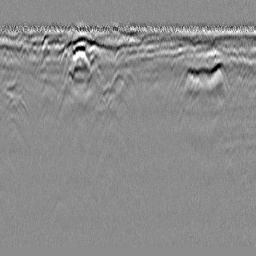cavity: (118, 68, 138, 99)
